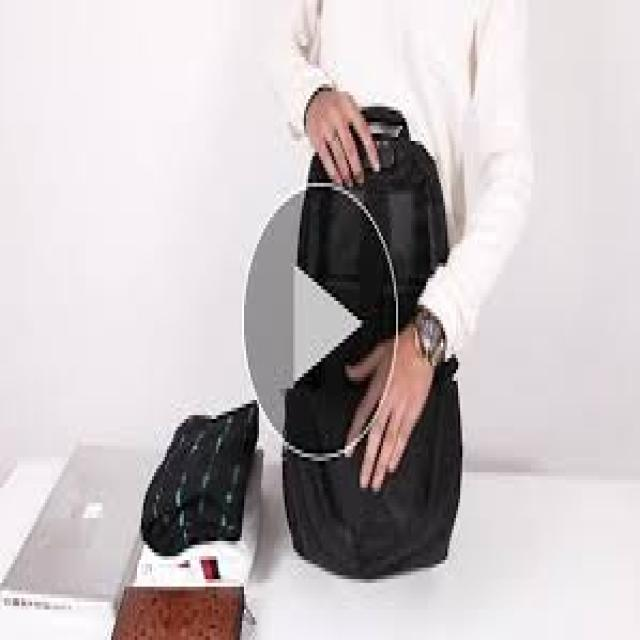backpack: (282, 104, 464, 580)
